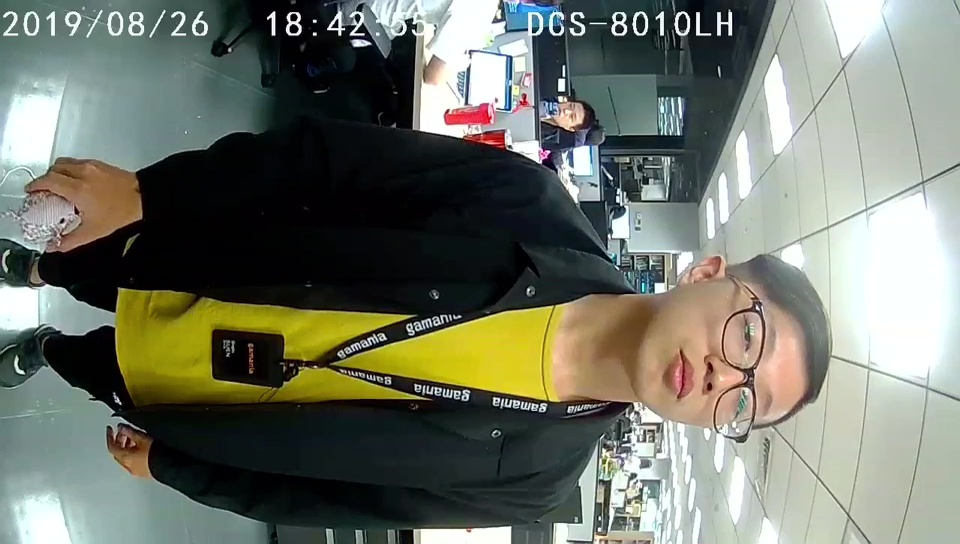pig: (18, 184, 83, 249)
